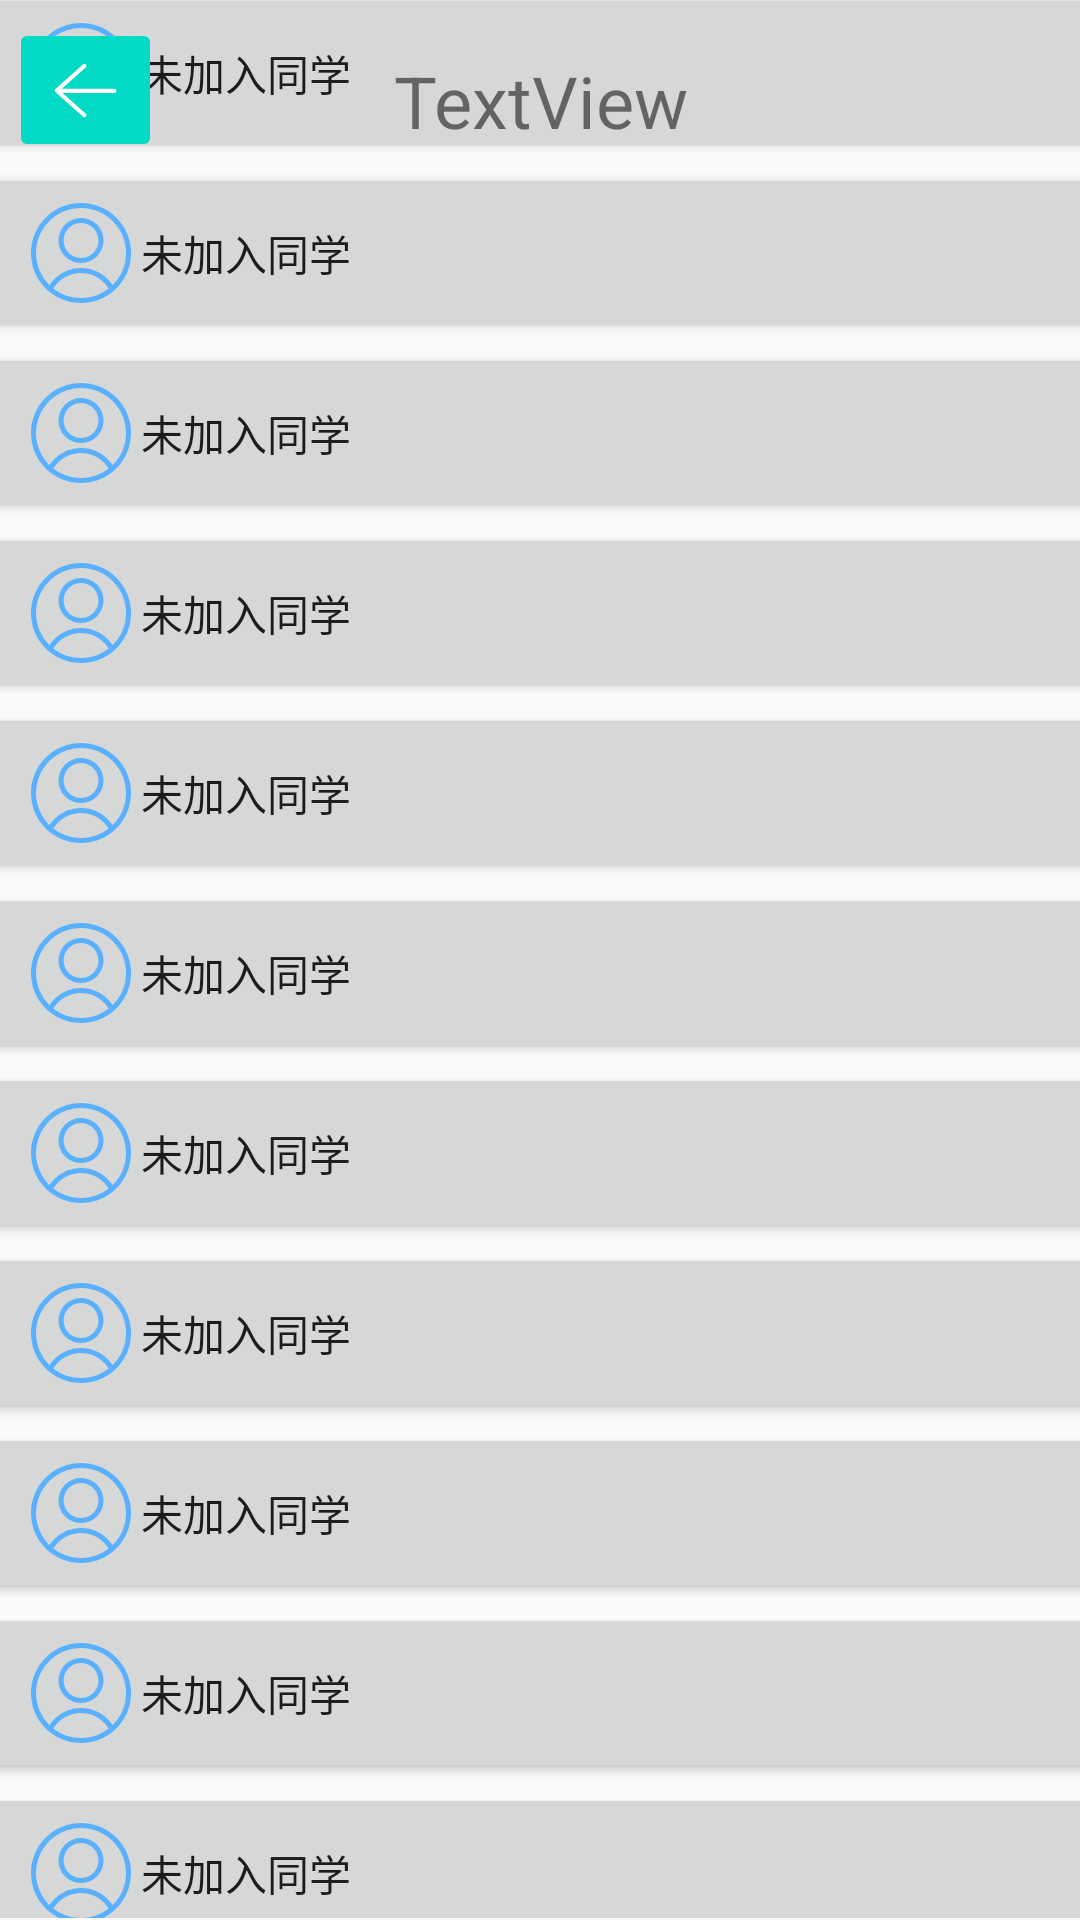

Named icons in this screenshot (1080w x 1920h) and their bounding boxes, (x1, y1, x2, y2):
return: (9, 23, 162, 162)
